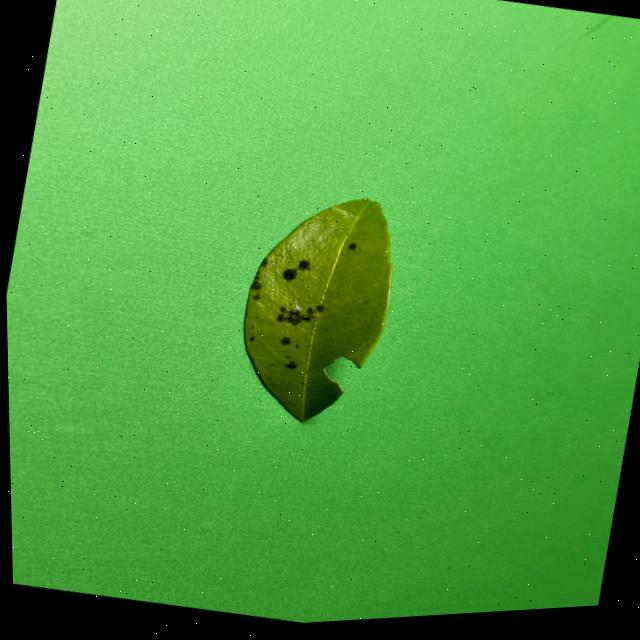sooty_mold: (243, 198, 391, 419)
